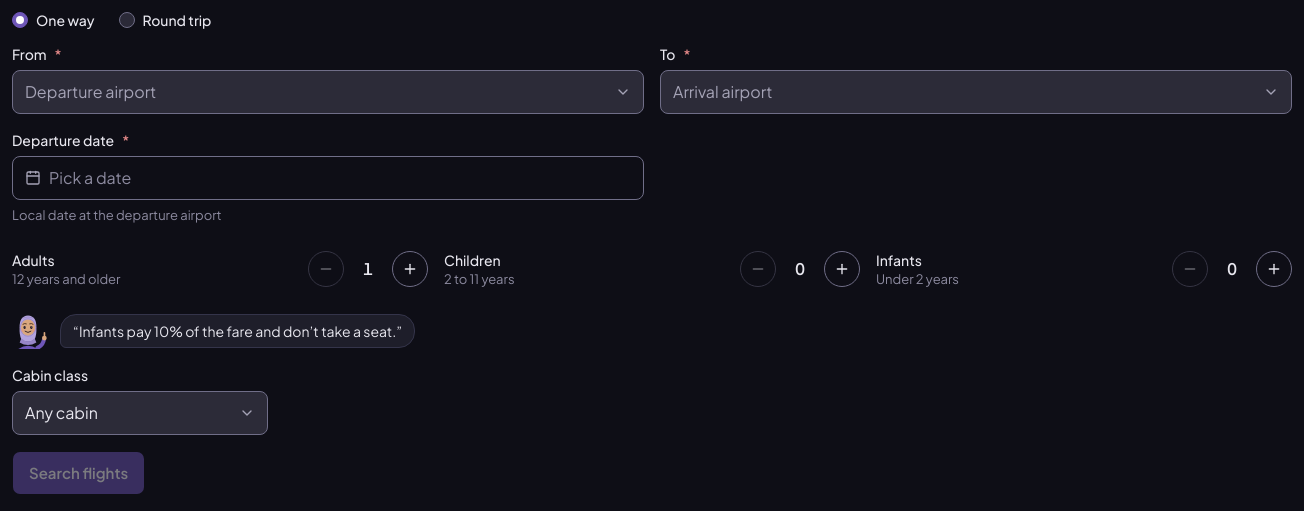
Test: adults stay at least 1 and infants can't exceed adults
Expected: the button named "fewer" is disabled, [308,251,344,287]
Step 1. Click the button named "more" → (1274, 269), box [1256,251,1292,287]
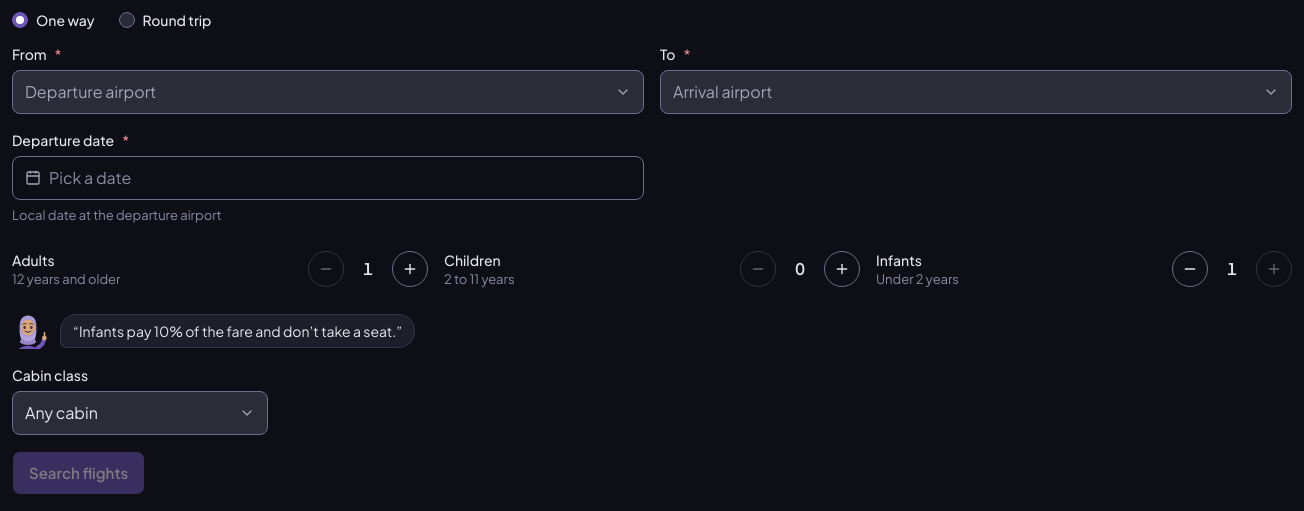
Expected: the button named "more" is disabled, [1256,251,1292,287]
Step 2. Click the button named "more" → (410, 269), box [392,251,428,287]
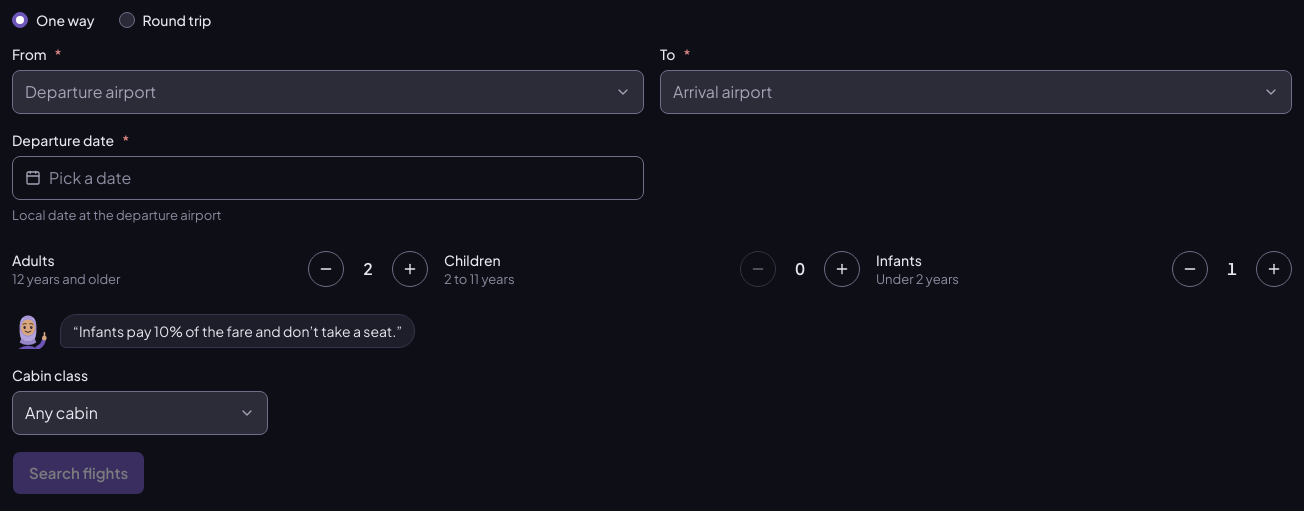
Expected: the button named "more" is enabled, [1256,251,1292,287]
